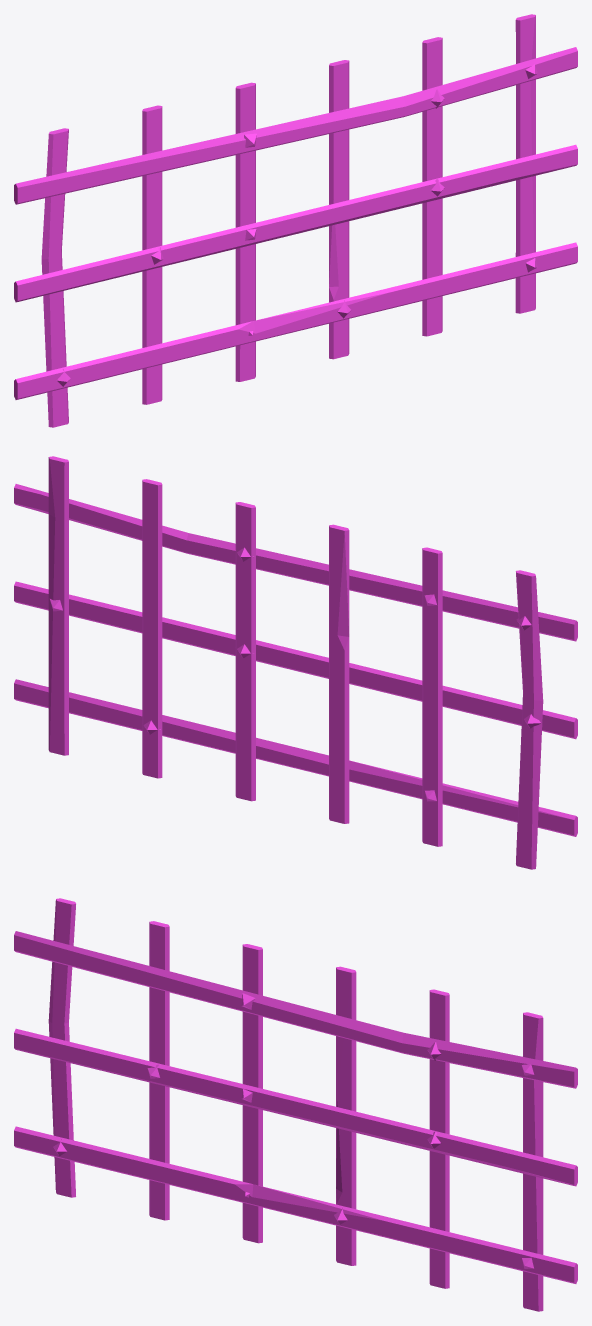
File: SM_Wall_Bars_2x1m_Fantasy.fbx
The picture shows the model from 3 angles, top to bottom: view 1: azimuth 30°, elevation 25°; view 2: azimuth 150°, elevation 25°; view 3: azimuth 330°, elevation 25°; orthographic projection.
Visible parts, largest first — view 1: SM_Wall_Bars_2x1m_Fantasy; view 2: SM_Wall_Bars_2x1m_Fantasy; view 3: SM_Wall_Bars_2x1m_Fantasy.
Boxes of the visible parts, left/top/right/bottom form: SM_Wall_Bars_2x1m_Fantasy: left=14, top=14, right=577, bottom=427; SM_Wall_Bars_2x1m_Fantasy: left=14, top=456, right=577, bottom=869; SM_Wall_Bars_2x1m_Fantasy: left=14, top=898, right=577, bottom=1311.
Bounding box in the file's own units: 2 × 1 × 0.0862.
